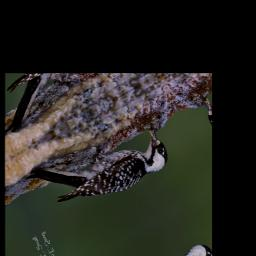Woodpecker: (26, 106, 173, 232)
